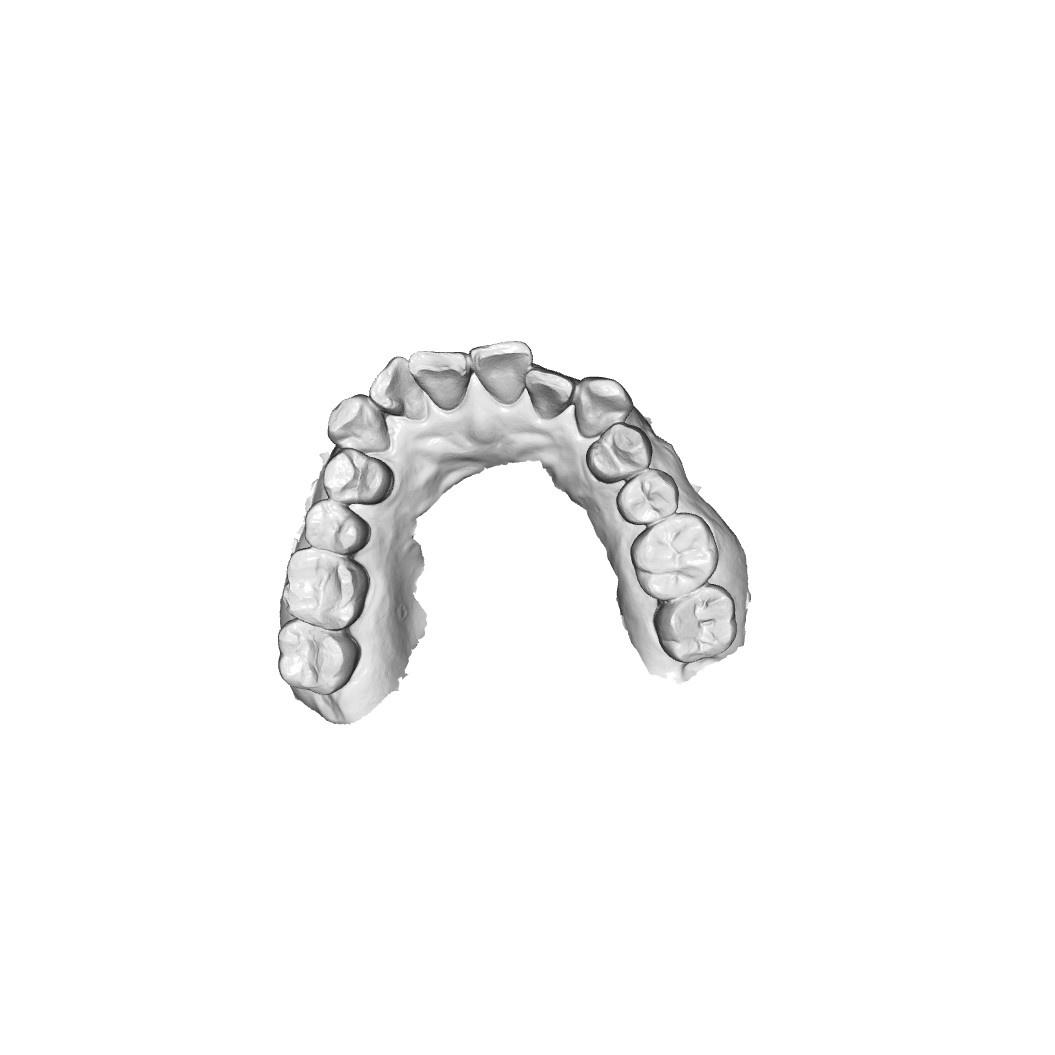canine: (327, 392, 392, 453), (574, 376, 633, 440)
incisor: (370, 356, 428, 414), (414, 351, 470, 410), (473, 345, 529, 401), (527, 372, 572, 420)
molar: (279, 546, 367, 627), (649, 586, 738, 664), (631, 515, 715, 592), (272, 623, 359, 696)
premolar: (321, 448, 394, 505), (584, 427, 649, 481), (305, 504, 371, 553), (619, 469, 676, 522)
